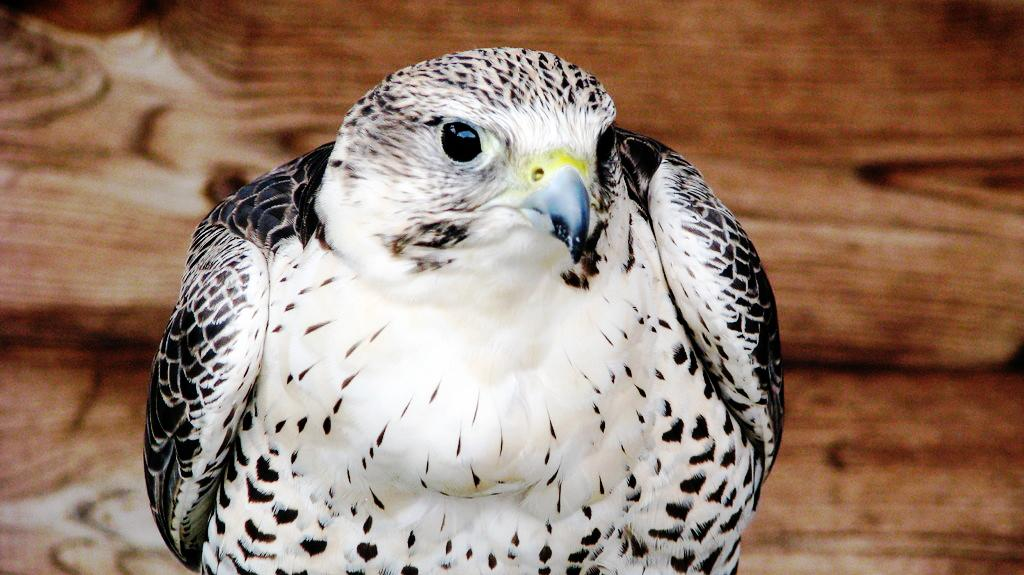Owl: (144, 44, 784, 574)
